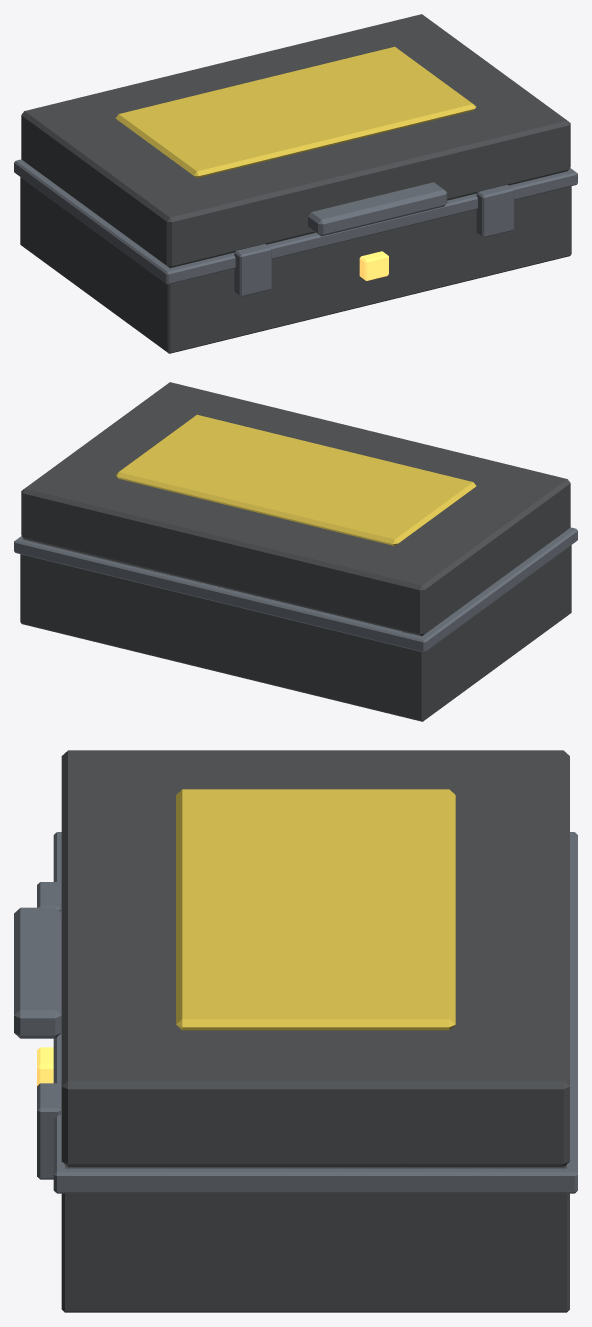
File: small_case.glb
3 views of the same model, one above another, from view 1: azimuth 30°, elevation 25°; view 2: azimuth 150°, elevation 25°; view 3: azimuth 270°, elevation 25° (orthographic). The views are drawn at different scales.
Visible parts, largest first — view 1: Lid, Body; view 2: Lid, Body; view 3: Lid, Body.
Part boxes in pixels (bbox=[...]): Lid: bbox=[21, 14, 570, 268]; Body: bbox=[14, 159, 577, 353]; Lid: bbox=[21, 382, 570, 636]; Body: bbox=[14, 527, 577, 721]; Lid: bbox=[14, 750, 569, 1167]; Body: bbox=[37, 832, 577, 1312].
Size of the model in its own units: 0.51 by 0.168 by 0.355.
